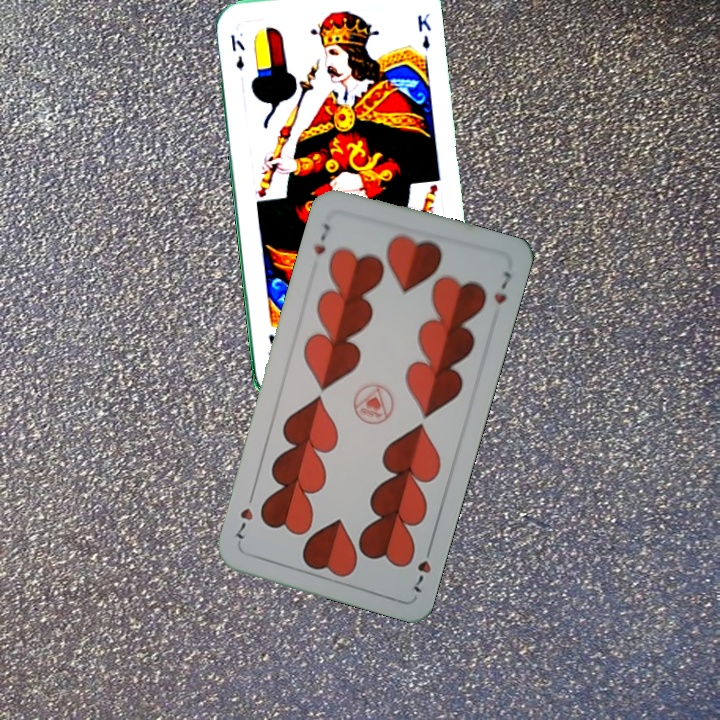EK: (226, 31, 248, 73)
H7: (408, 539, 435, 595), (310, 219, 333, 258)
